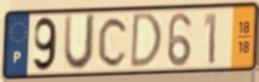1: (203, 10, 219, 67)
6: (166, 10, 194, 70)
9: (32, 15, 60, 73)
C: (96, 15, 131, 69)
D: (128, 11, 164, 71)
U: (61, 12, 98, 74)
